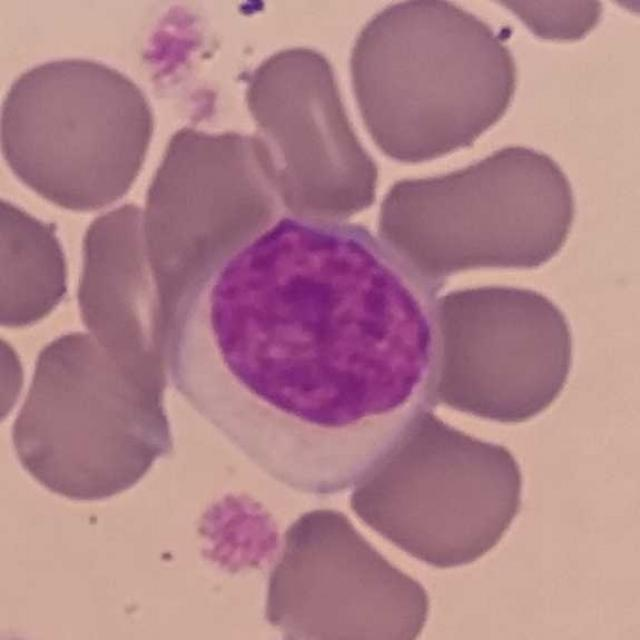Monocyte: (174, 206, 444, 491)
Platelets: (188, 488, 286, 582), (133, 6, 214, 81), (232, 0, 271, 22)
RBC: (139, 120, 288, 336), (5, 325, 178, 509), (344, 407, 532, 572), (343, 0, 525, 167), (375, 138, 584, 279), (236, 39, 385, 223), (0, 48, 160, 214), (416, 275, 581, 427), (258, 502, 438, 640), (68, 198, 192, 390), (0, 184, 77, 332), (453, 0, 610, 47), (0, 315, 30, 445), (575, 0, 639, 22)
